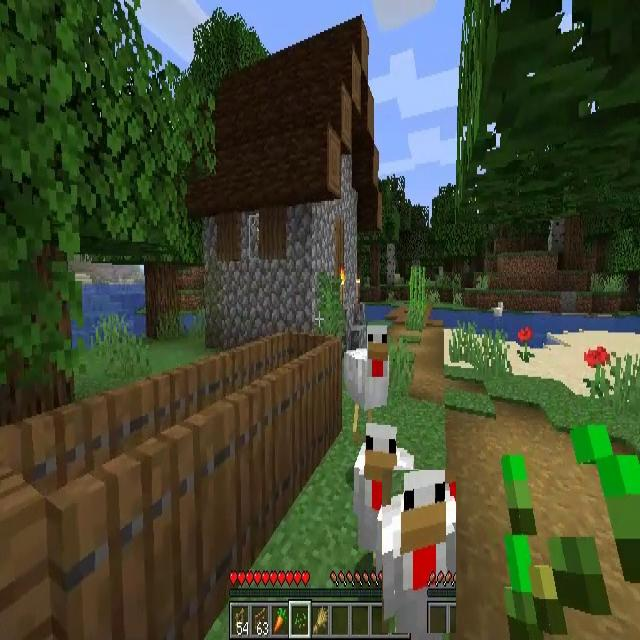duck: (382, 470, 457, 633), (355, 426, 414, 560), (344, 324, 391, 426), (489, 302, 506, 320)
flower: (585, 346, 611, 396), (518, 325, 535, 363)
